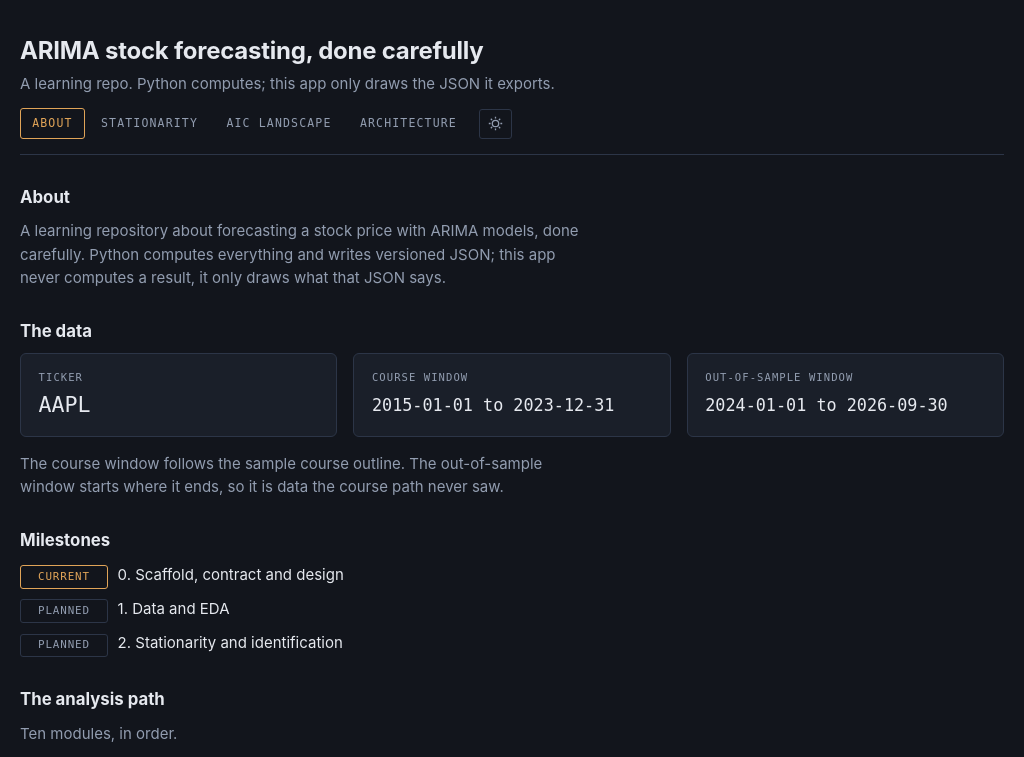
Test case: App (integration) › offers the two order-selection pages once meta lists their files, and loads each file only when its page opens
Expected: the text "AAPL" is shown, [39,392,91,417]
Click the link "Stationarity": point(150, 123) [101,116,198,130]
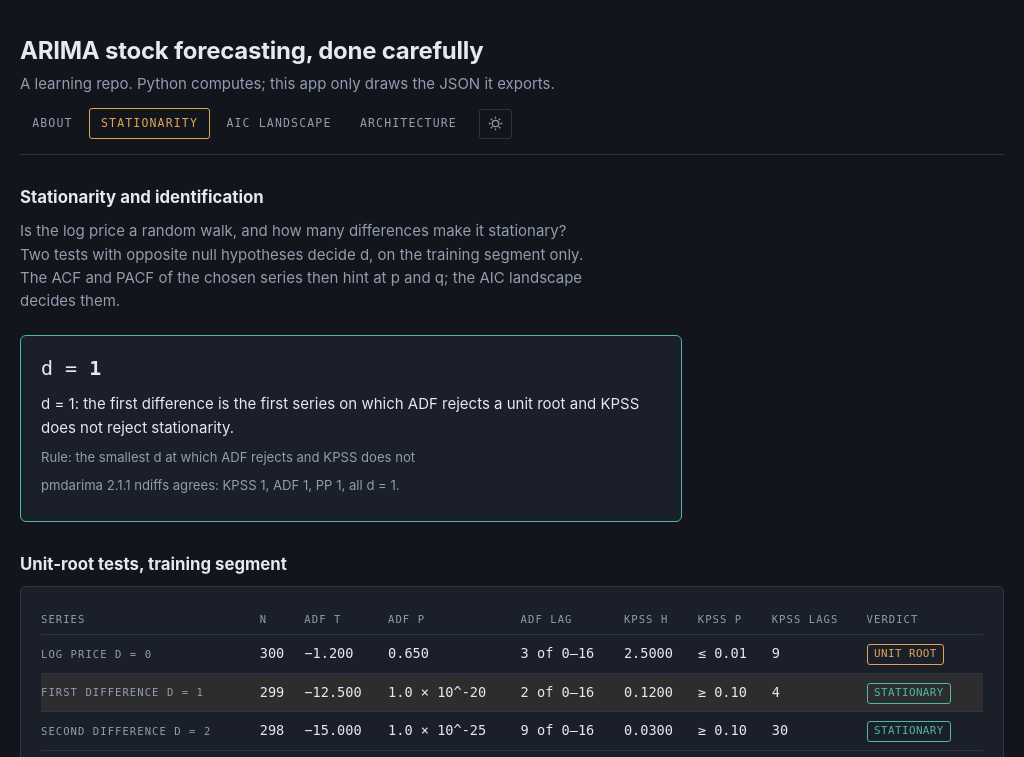
Expected: the element named "Decision on d" shows "d = 1", [41,394,639,437]
Click the link "AIC landscape": point(279, 123) [226,116,332,130]
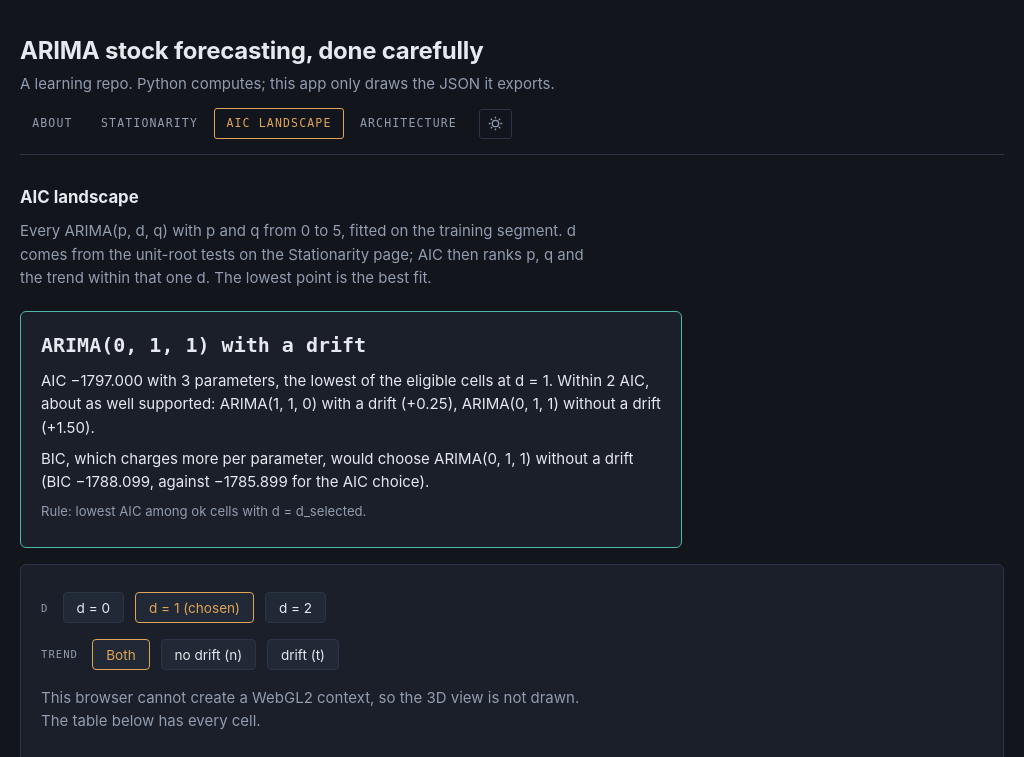
Expected: the element named "Chosen model" shows "ARIMA(0, 1, 1) with a drift", [41,333,366,357]
